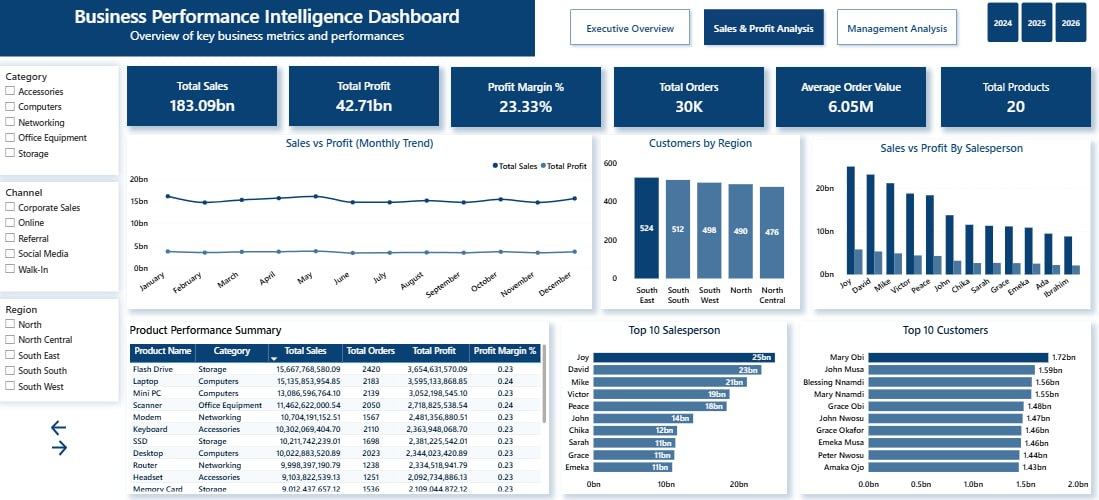

What the dashboard file says about the page in this screenshot:
{"tool":"powerbi","page":{"name":"Sales & Profit Analysis","canvas":[2200,1000],"ordinal":1},"visuals":[{"type":"cardVisual","fields":{"Data":["Dim_Customers.Total Net Sales"]},"box":[255.4,132.1,300,120],"z":0},{"type":"cardVisual","fields":{"Data":["Dim_Customers.Average Order Value"]},"box":[1554,134,300,120],"z":1000},{"type":"cardVisual","fields":{"Data":["Dim_Customers.Profit Margin %"]},"box":[904,134,300,120],"z":2000},{"type":"cardVisual","fields":{"Data":["Dim_Customers.Total Profit"]},"box":[580,132,300,120],"z":3000},{"type":"textbox","box":[0,0,1072,112.5],"z":4000},{"type":"cardVisual","fields":{"Data":["Dim_Customers.Total Orders"]},"box":[1230,134,300,120],"z":5000},{"type":"advancedSlicerVisual","fields":{"Values":["Dim_Date.Year"]},"box":[1952,0,248.2,89.3],"z":6000},{"type":"lineChart","title":"Sales vs Profit (Monthly Trend)","fields":{"Y":["Dim_Customers.Total Sales","Dim_Customers.Total Profit"],"Category":["Dim_Date.Month_Name"]},"box":[256,270,930,348],"z":7000},{"type":"slicer","fields":{"Values":["Dim_Products.Category"]},"box":[0,132.1,239.3,217.9],"z":8000},{"type":"slicer","fields":{"Values":["Dim_Customers.Region"]},"box":[0,598.2,239.3,205.4],"z":9000},{"type":"slicer","fields":{"Values":["Fact_Sales.Channel"]},"box":[0,364.3,239.3,219],"z":10000},{"type":"columnChart","title":"Customers by Region","fields":{"Category":["Dim_Customers.Region"],"Y":["Dim_Customers.Total Customers"]},"box":[1204,270,398,348],"z":11000},{"type":"barChart","title":"Top 10 Salesperson","fields":{"Y":["Dim_Customers.Total Sales"],"Category":["Dim_Employees.Employee_Name"]},"box":[1126,644,450,344],"z":12000},{"type":"barChart","title":"Top 10 Customers","fields":{"Category":["Dim_Customers.Customer_Name"],"Y":["Dim_Customers.Total Sales"]},"box":[1602,644,582,344],"z":13000},{"type":"clusteredColumnChart","title":"Sales vs Profit By Salesperson","fields":{"Category":["Dim_Employees.Employee_Name"],"Y":["Dim_Customers.Total Sales","Dim_Customers.Total Profit"]},"box":[1628,280,555,338],"z":14000},{"type":"tableEx","title":"Product Performance Summary","fields":{"Values":["Dim_Products.Product_Name","Dim_Products.Category","Dim_Customers.Total Sales","Dim_Customers.Total Orders","Dim_Customers.Total Profit","Dim_Customers.Profit Margin %"]},"box":[256,644,844,344],"z":15000},{"type":"pageNavigator","box":[1134,10,792,89],"z":16000},{"type":"cardVisual","fields":{"Data":["Dim_Customers.Total Products"]},"box":[1884,134,300,120],"z":17000},{"type":"actionButton","box":[70,876,100,40],"z":18000},{"type":"actionButton","box":[70,836,100,40],"z":19000}]}

Visuals, with their boxes in screenshot pixels (x1, y1, x2, y2), scaled from the page's 2200x1000 canvas onto the 1099x500 screenshot:
cardVisual - Dim_Customers.Total Net Sales: <bbox>128, 66, 277, 126</bbox>
cardVisual - Dim_Customers.Average Order Value: <bbox>776, 67, 926, 127</bbox>
cardVisual - Dim_Customers.Profit Margin %: <bbox>452, 67, 601, 127</bbox>
cardVisual - Dim_Customers.Total Profit: <bbox>290, 66, 440, 126</bbox>
textbox: <bbox>0, 0, 536, 56</bbox>
cardVisual - Dim_Customers.Total Orders: <bbox>614, 67, 764, 127</bbox>
advancedSlicerVisual - Dim_Date.Year: <bbox>975, 0, 1098, 45</bbox>
"Sales vs Profit (Monthly Trend)" lineChart: <bbox>128, 135, 592, 309</bbox>
slicer - Dim_Products.Category: <bbox>0, 66, 120, 175</bbox>
slicer - Dim_Customers.Region: <bbox>0, 299, 120, 402</bbox>
slicer - Fact_Sales.Channel: <bbox>0, 182, 120, 292</bbox>
"Customers by Region" columnChart: <bbox>601, 135, 800, 309</bbox>
"Top 10 Salesperson" barChart: <bbox>562, 322, 787, 494</bbox>
"Top 10 Customers" barChart: <bbox>800, 322, 1091, 494</bbox>
"Sales vs Profit By Salesperson" clusteredColumnChart: <bbox>813, 140, 1091, 309</bbox>
"Product Performance Summary" tableEx: <bbox>128, 322, 550, 494</bbox>
pageNavigator: <bbox>566, 5, 962, 50</bbox>
cardVisual - Dim_Customers.Total Products: <bbox>941, 67, 1091, 127</bbox>
actionButton: <bbox>35, 438, 85, 458</bbox>
actionButton: <bbox>35, 418, 85, 438</bbox>
